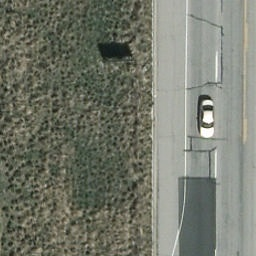car: (200, 100, 215, 139)
